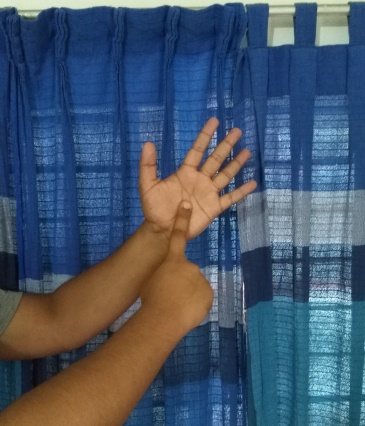oo: (140, 116, 261, 334)
